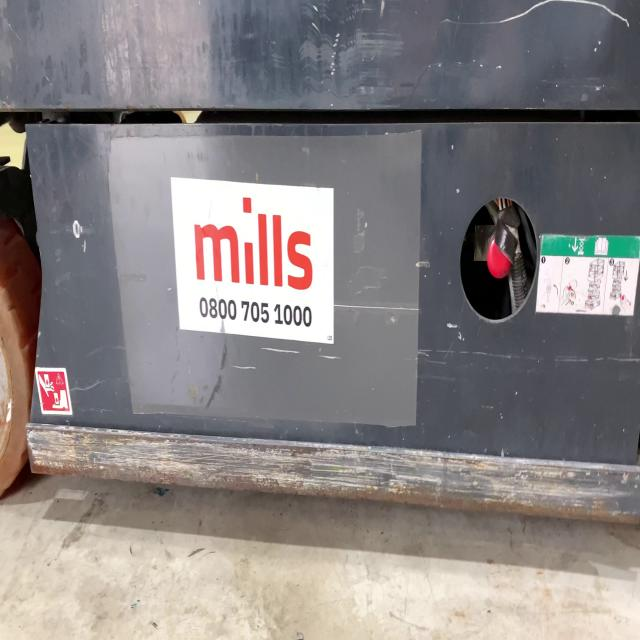Adesivos: (167, 170, 337, 349)
